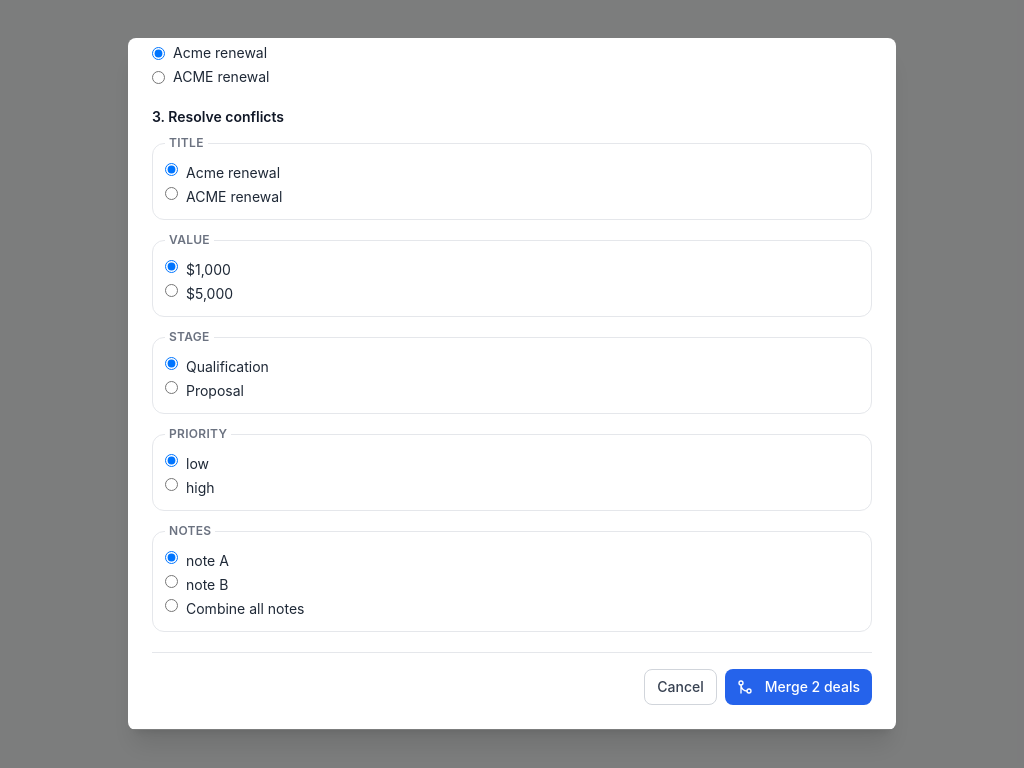
Test: MergeDealsModal › shows an error and stays open when the RPC fails
(page scrolled)
Click the button "Merge 2 deals".
click(798, 687)  # box x1=725 y1=669 x2=872 y2=705
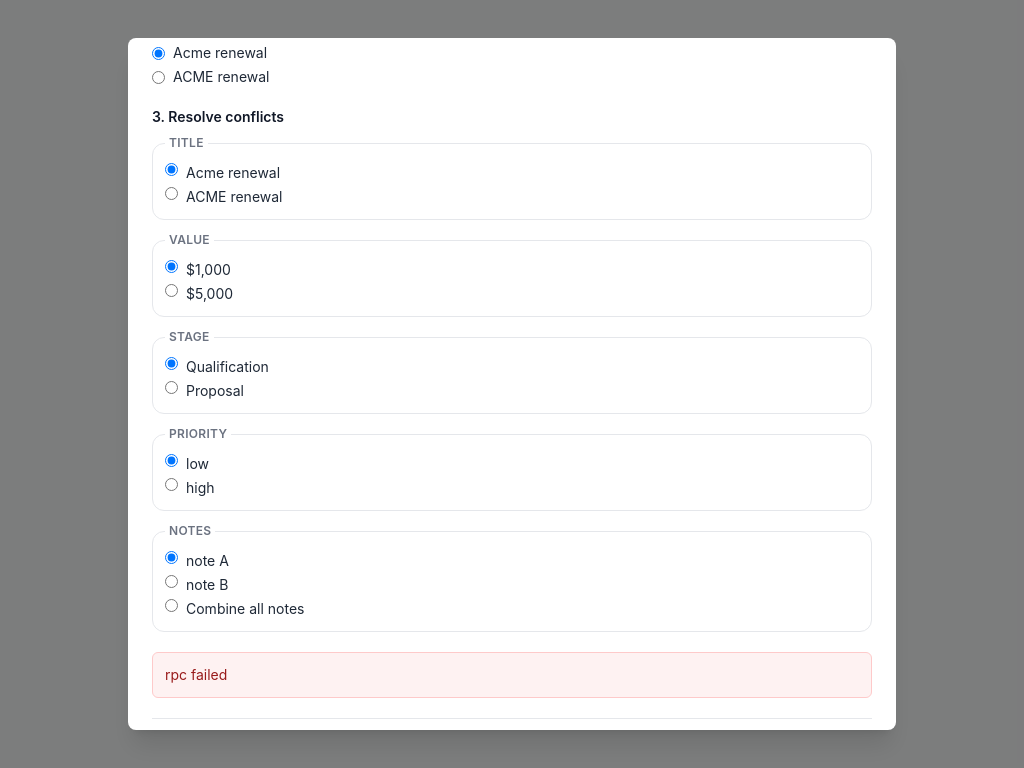
Now the text "rpc failed" is shown, box x1=165 y1=665 x2=227 y2=685
